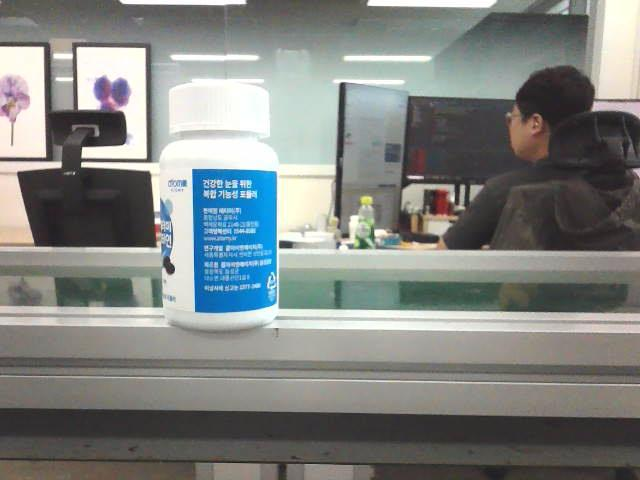labeled: (149, 74, 283, 335)
